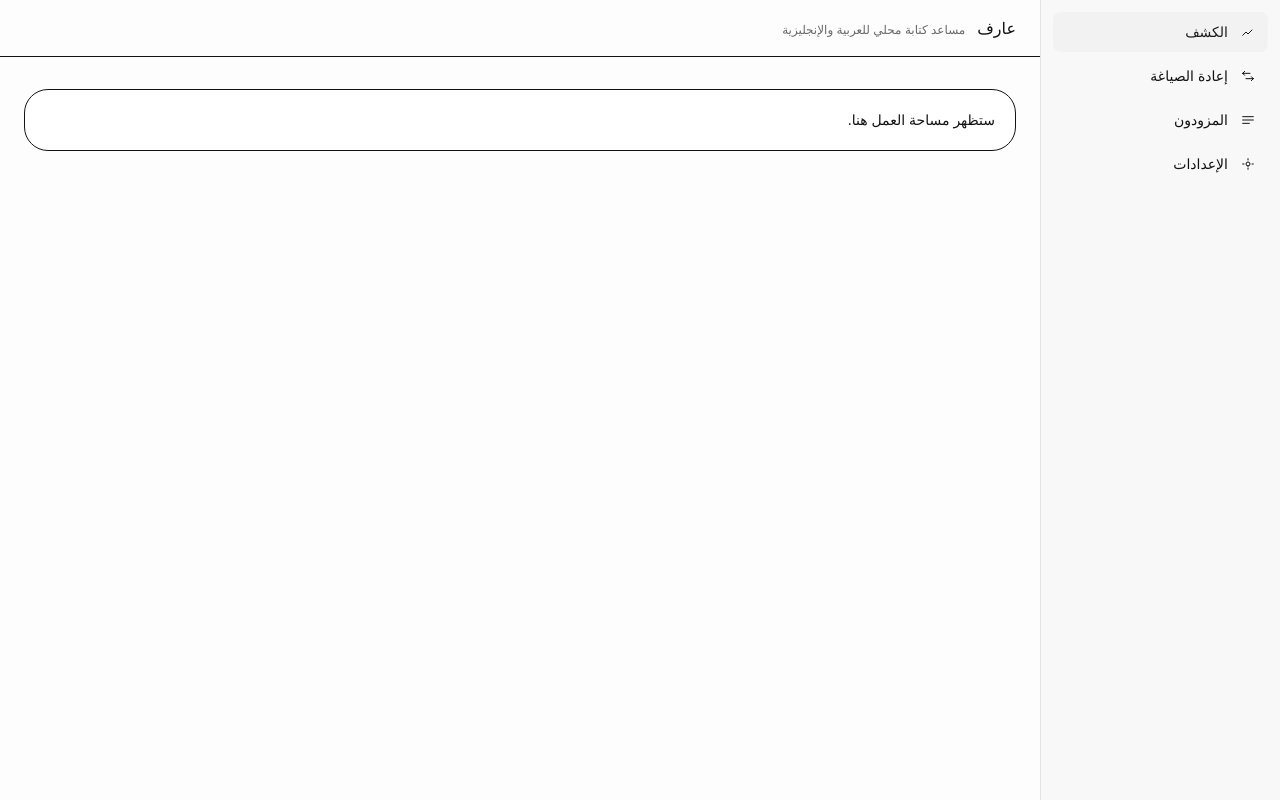
Test: ProvidersScreen through the shell › mounts on the Providers navigation item
Click the button "المزودون". click: (1160, 120)
box: [1053,100,1268,140]
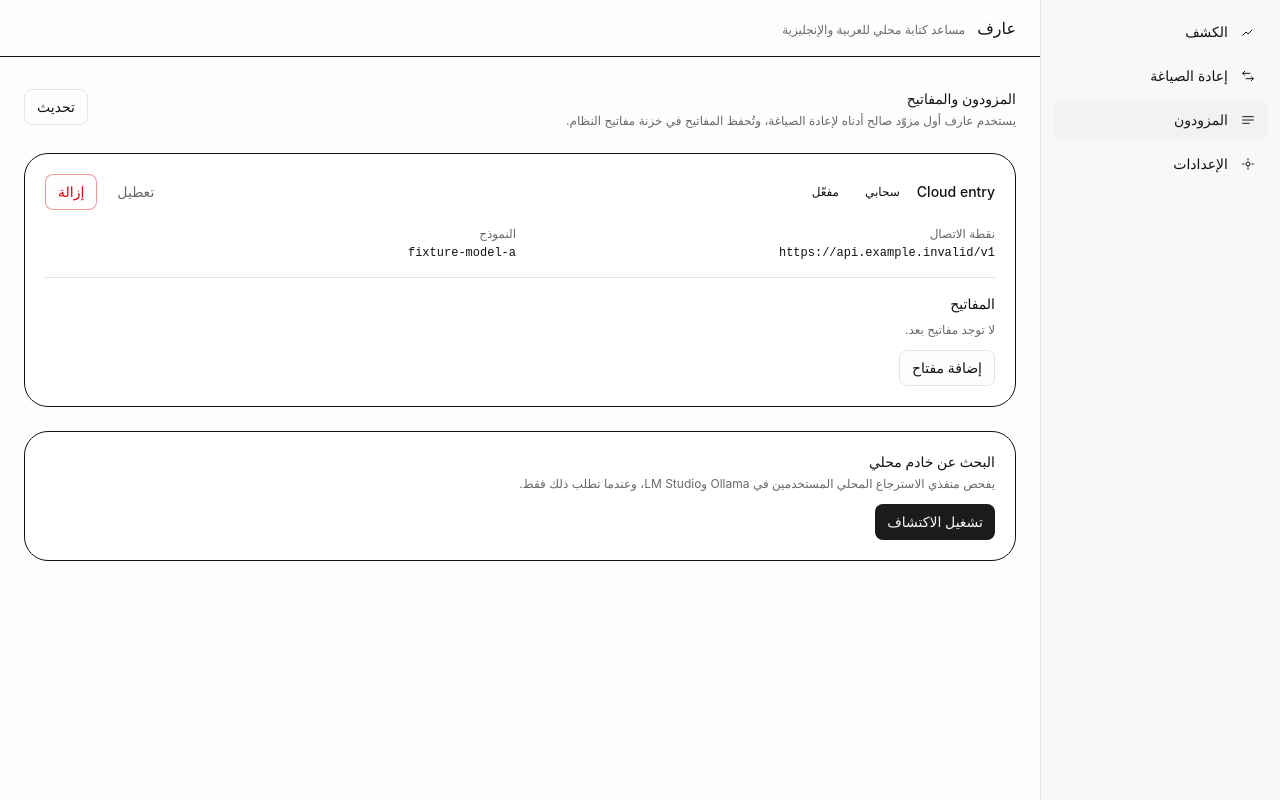
Expected: the element with test id "providers-screen" is shown, [24,89,1016,561]
Expected: the text "ستظهر مساحة العمل هنا." is gone
